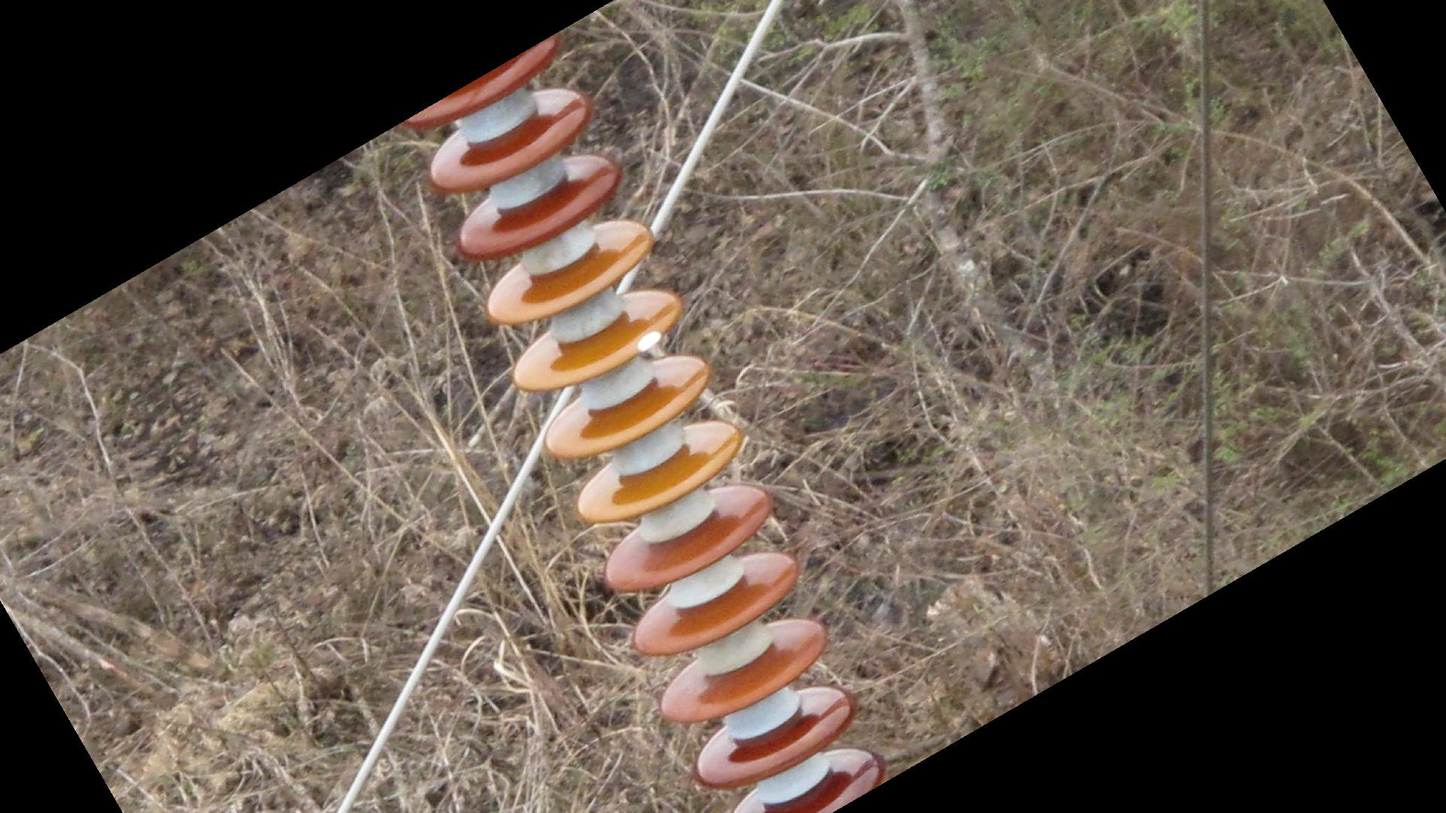insulator: (403, 34, 895, 813)
insulator_breakage: (626, 322, 669, 359)
